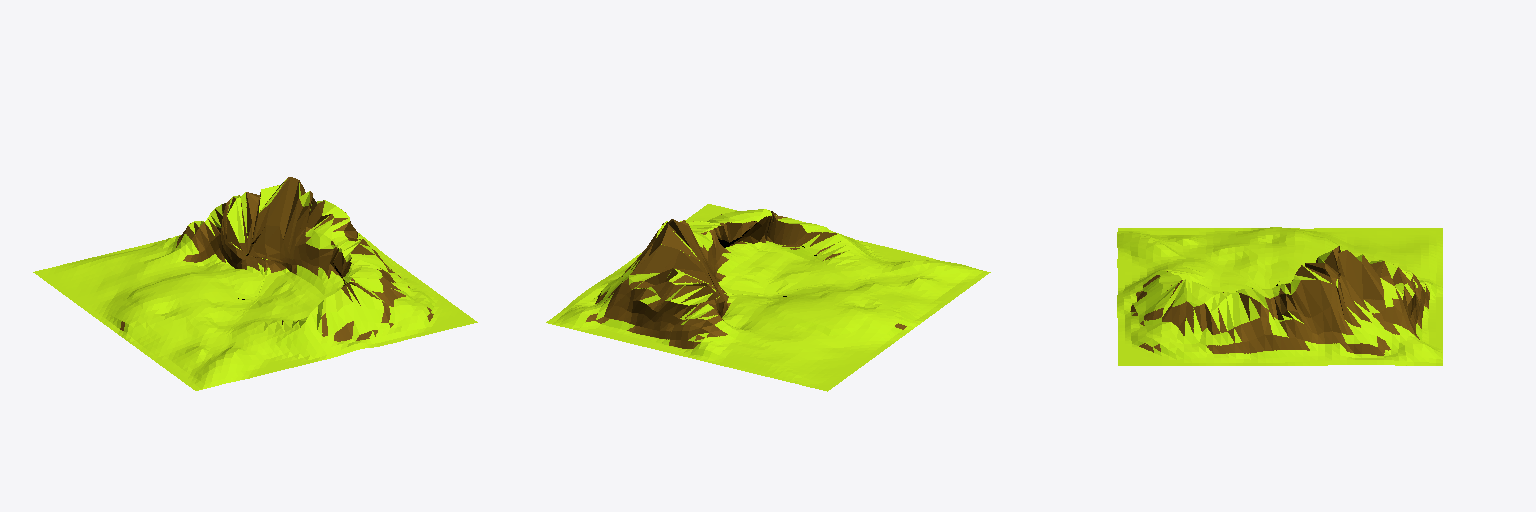
3 views of the same model, side by side, from view 1: azimuth 30°, elevation 25°; view 2: azimuth 150°, elevation 25°; view 3: azimuth 270°, elevation 25° (orthographic).
Visible parts, largest first — view 1: Plane; view 2: Plane; view 3: Plane.
Part boxes in pixels (x1,y1,x2,y2): Plane: (33, 177, 477, 390); Plane: (546, 204, 990, 391); Plane: (1117, 227, 1442, 365).
Size of the model in its own units: 24.55 by 6.92 by 24.57.
Materials: 1 (1 with a texture image).